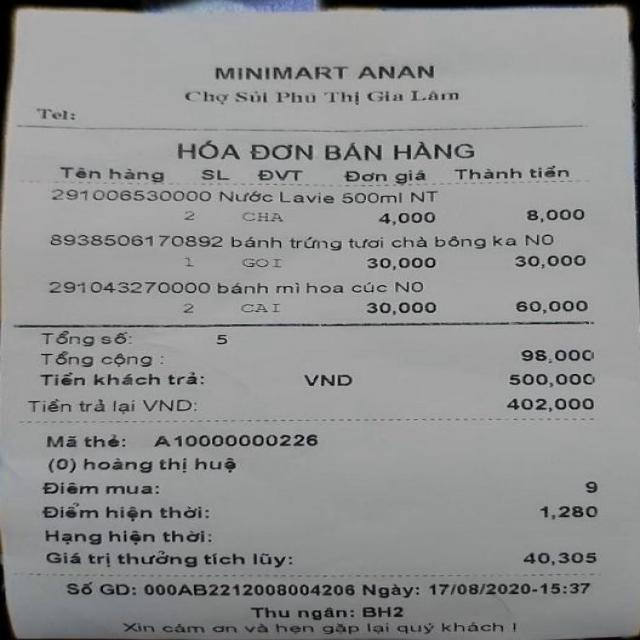Date: (430, 576, 532, 600)
Store_Name: (196, 50, 454, 84)
Total_Amount: (513, 342, 600, 364)
